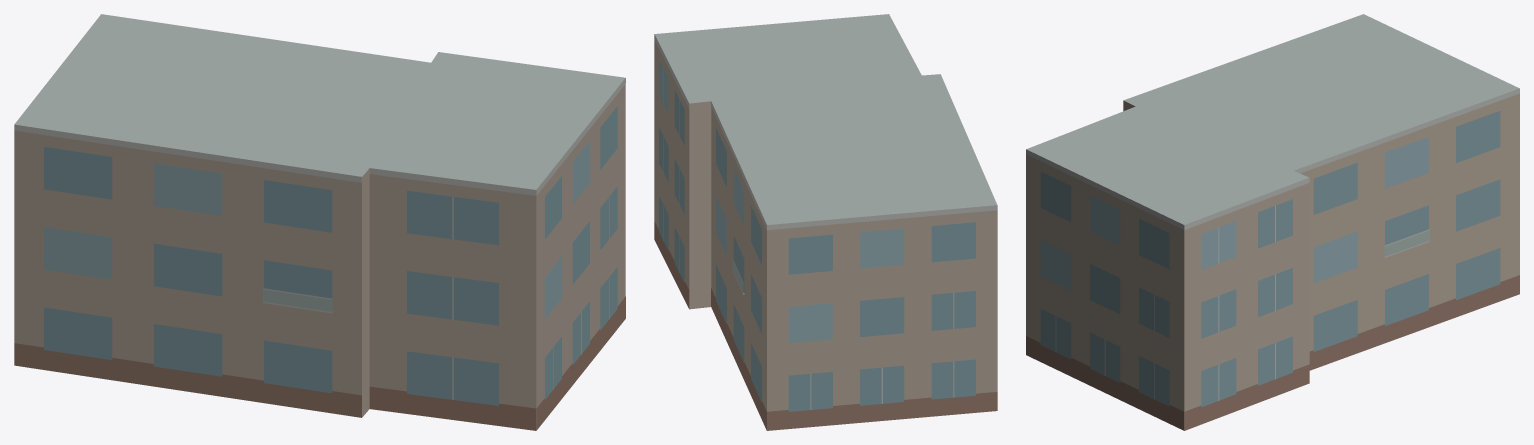
Rendered from survey-upis-32535300.glb.
3 renders of one model, left to right at view 1: azimuth 30°, elevation 25°; view 2: azimuth 150°, elevation 25°; view 3: azimuth 270°, elevation 25°, orthographic. The views are drawn at different scales.
Visible parts, largest first — view 1: survey-upis-32535300.tmp; view 2: survey-upis-32535300.tmp; view 3: survey-upis-32535300.tmp.
Boxes of the visible parts, x1=… form: survey-upis-32535300.tmp: x1=14, y1=14, x2=625, y2=430; survey-upis-32535300.tmp: x1=654, y1=14, x2=997, y2=430; survey-upis-32535300.tmp: x1=1026, y1=14, x2=1519, y2=430.
Bounding box in the file's own units: 21.57 × 9.8 × 21.32.
